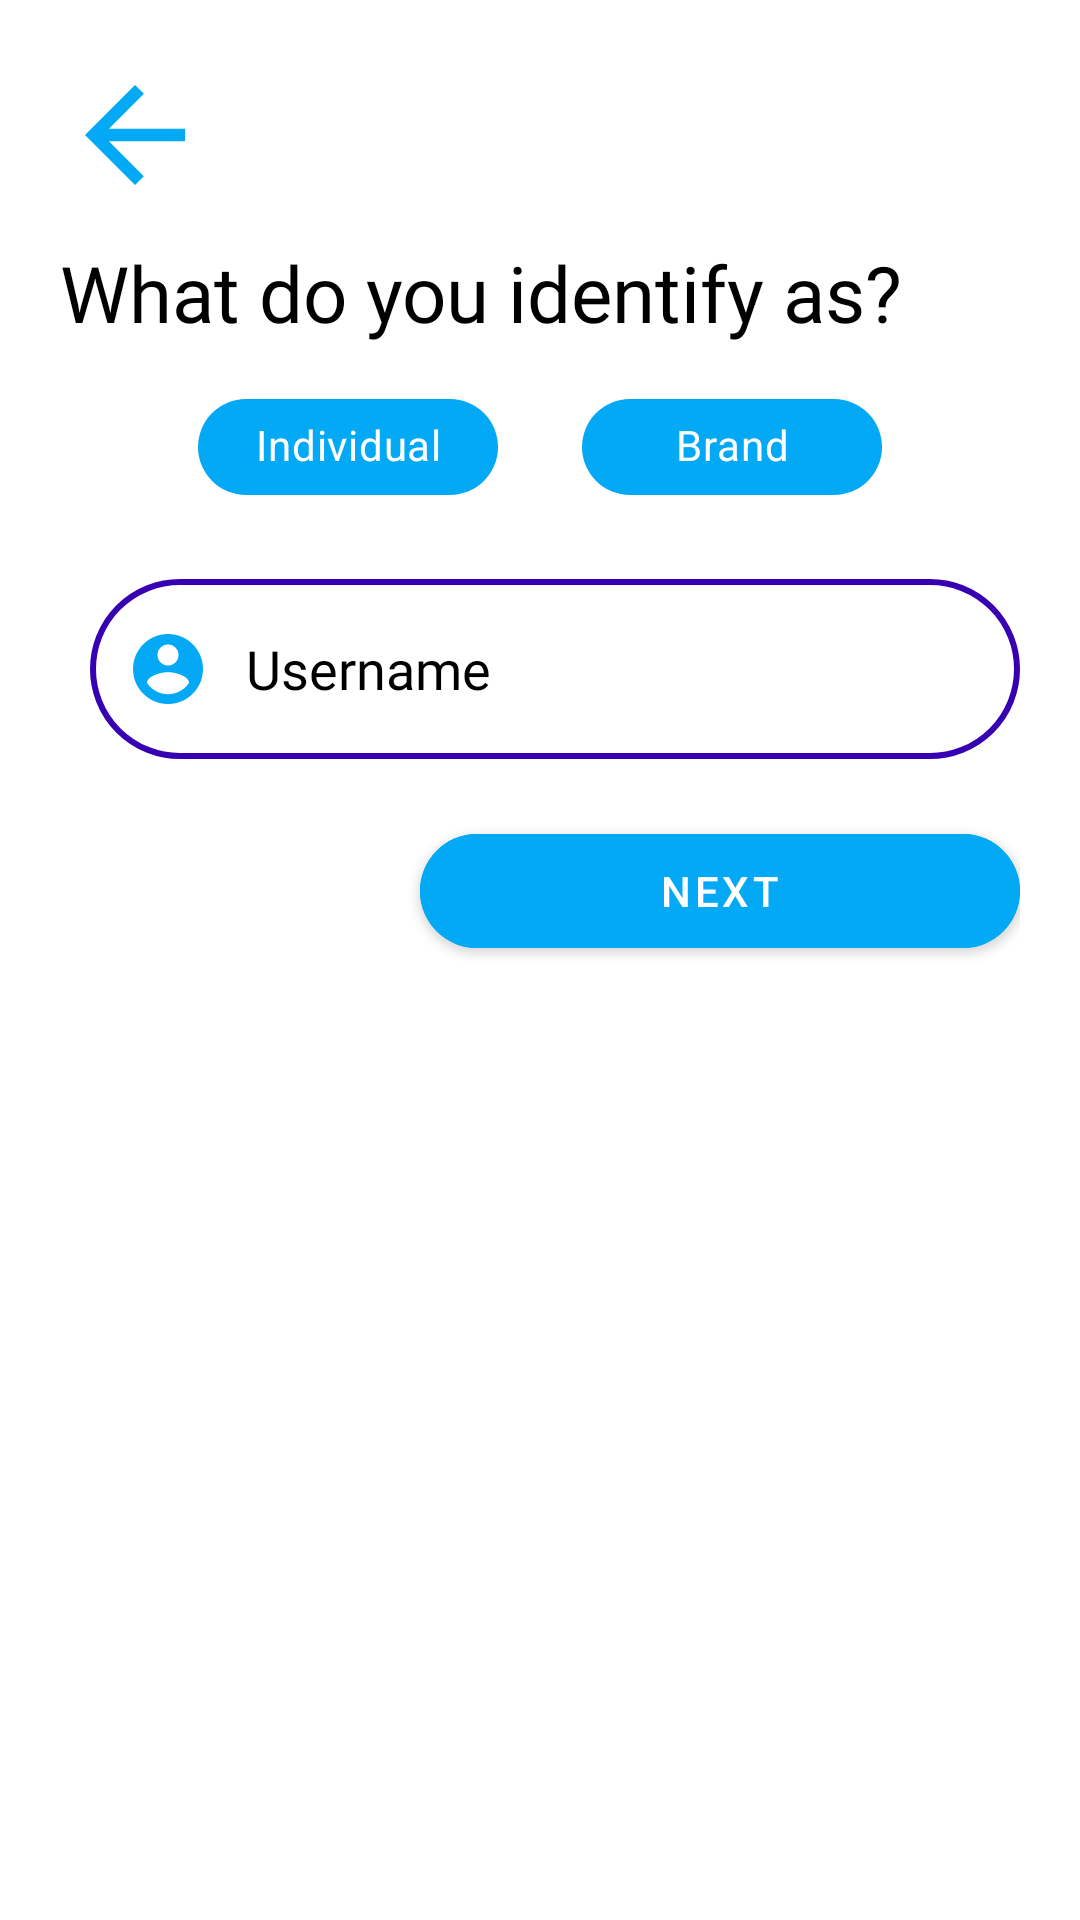

Point at icon controls on the screen. Image size 1080x1920, points as (x=x, y=y).
arrow back: (x=135, y=135)
